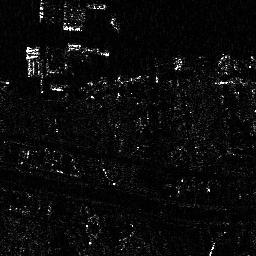ship: (152, 53, 208, 68), (86, 2, 108, 10)
